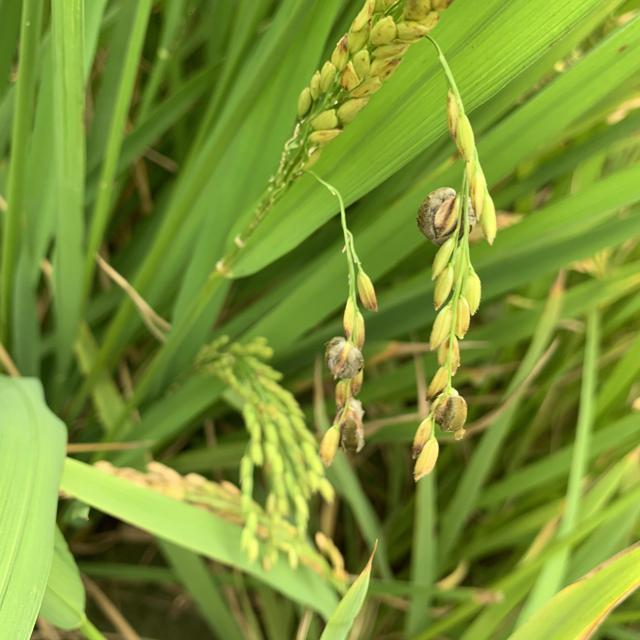Leaf_Scald: (415, 182, 478, 246), (425, 383, 473, 438), (322, 333, 368, 382), (329, 406, 368, 454)
